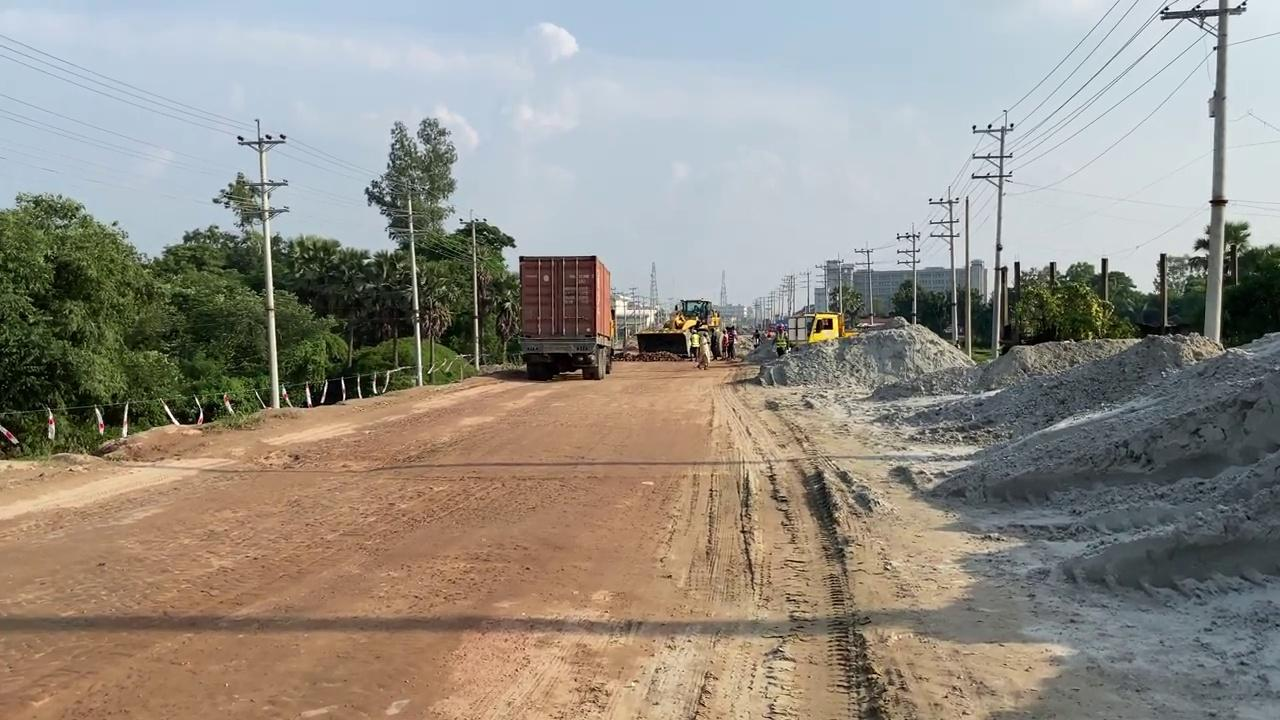Pole: (1207, 7, 1234, 344), (402, 183, 420, 378)
Traffic-sign: (357, 106, 452, 376)
Tree: (517, 246, 610, 370), (634, 289, 718, 350), (775, 262, 838, 341), (775, 302, 837, 341), (740, 307, 778, 340)
